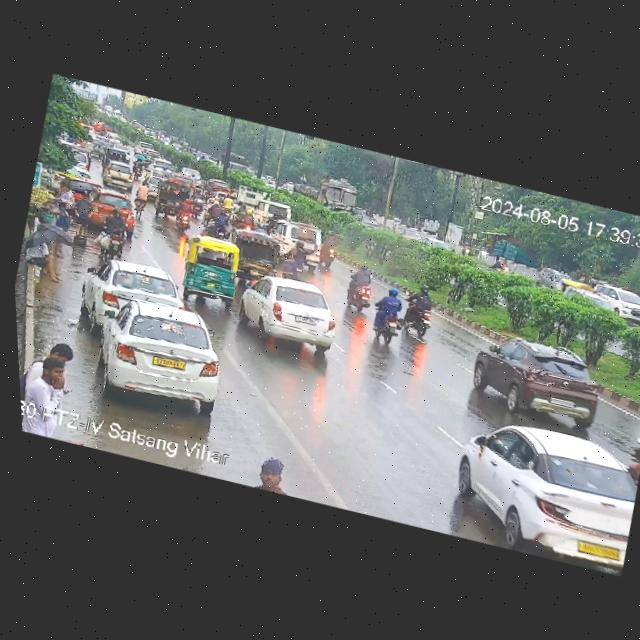car: (447, 407, 640, 569), (85, 290, 236, 414), (449, 326, 606, 428), (229, 269, 346, 355), (83, 252, 188, 326), (175, 233, 250, 308), (225, 226, 287, 281), (80, 188, 142, 231), (231, 192, 291, 231), (598, 281, 640, 329), (271, 218, 321, 251), (152, 177, 182, 218), (100, 158, 135, 190), (559, 273, 594, 299), (144, 173, 165, 200), (101, 146, 129, 165), (147, 160, 173, 178), (205, 177, 232, 194), (83, 135, 104, 155), (178, 166, 201, 182), (149, 158, 174, 172), (73, 149, 90, 168), (171, 173, 194, 187), (134, 140, 152, 156), (143, 148, 162, 159), (106, 132, 122, 144)
motorcycle: (367, 282, 409, 346), (95, 204, 136, 261), (398, 281, 438, 339), (342, 262, 378, 309), (199, 197, 233, 238), (172, 195, 197, 233), (186, 189, 210, 219), (206, 186, 235, 210), (131, 180, 150, 216), (131, 158, 146, 180), (201, 179, 213, 197), (187, 173, 198, 191), (163, 168, 175, 182), (142, 150, 151, 166), (120, 136, 129, 145)
person: (30, 335, 83, 395), (21, 233, 69, 283), (43, 198, 76, 256), (249, 453, 298, 491), (53, 181, 82, 210)
